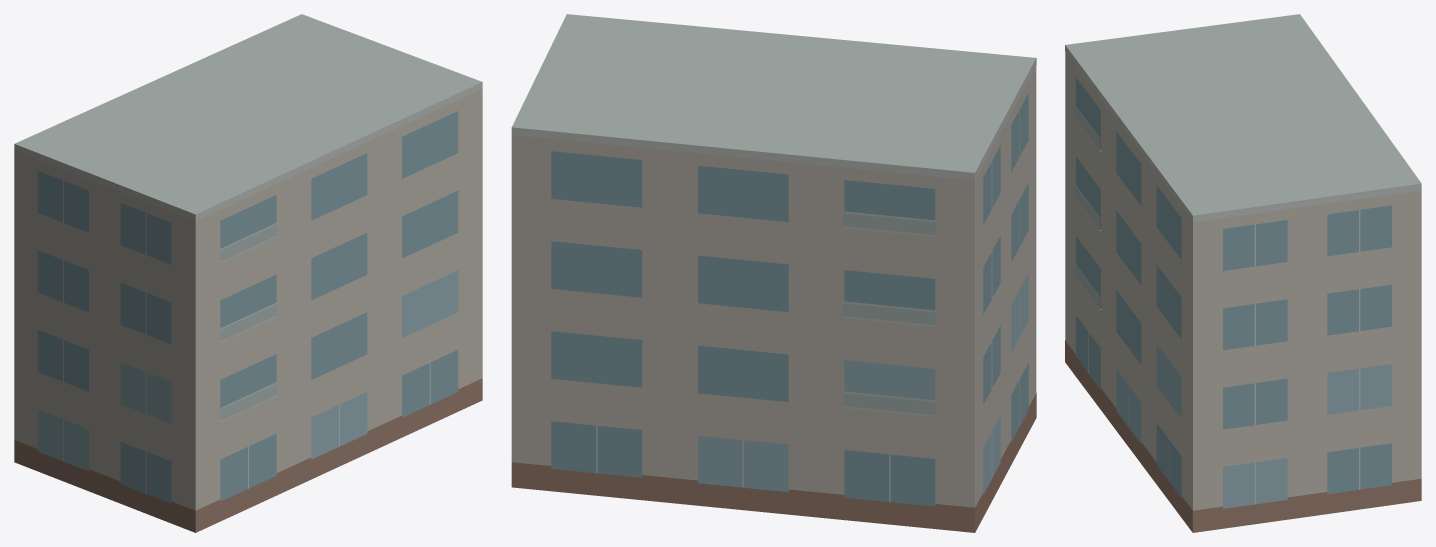
The model's file is survey-upis-32963853.glb.
The picture shows the model from 3 angles, left to right: view 1: azimuth 30°, elevation 25°; view 2: azimuth 150°, elevation 25°; view 3: azimuth 270°, elevation 25°; orthographic projection. The views are drawn at different scales.
Visible parts, largest first — view 1: survey-upis-32963853.tmp; view 2: survey-upis-32963853.tmp; view 3: survey-upis-32963853.tmp.
Boxes of the visible parts, x1=… form: survey-upis-32963853.tmp: x1=14, y1=14, x2=482, y2=532; survey-upis-32963853.tmp: x1=511, y1=14, x2=1036, y2=532; survey-upis-32963853.tmp: x1=1065, y1=14, x2=1421, y2=532.
Bounding box in the file's own units: 15.55 × 11.4 × 11.62.
